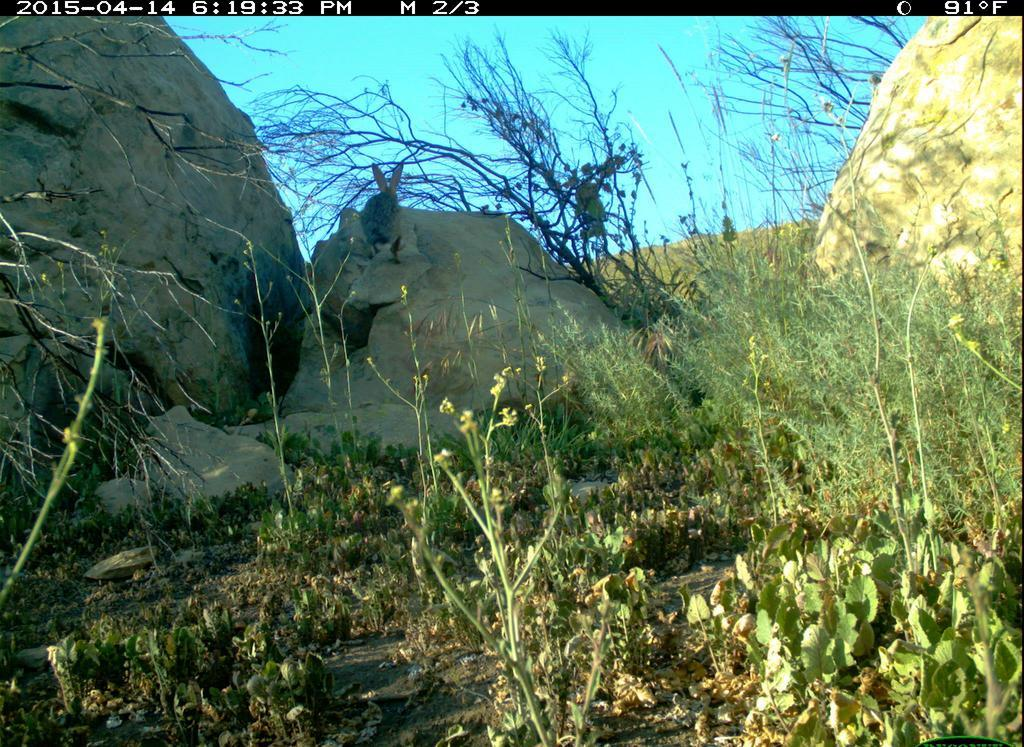rabbit: (355, 157, 437, 280)
